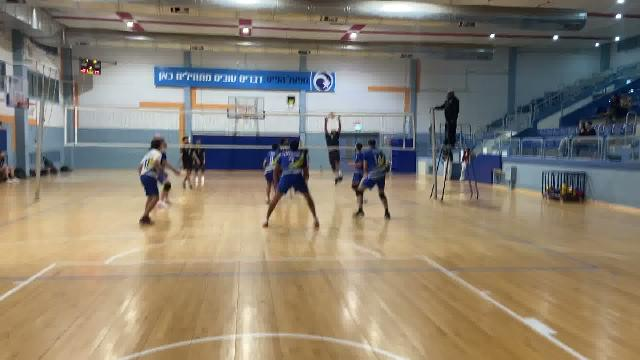ball: (327, 108, 337, 121)
